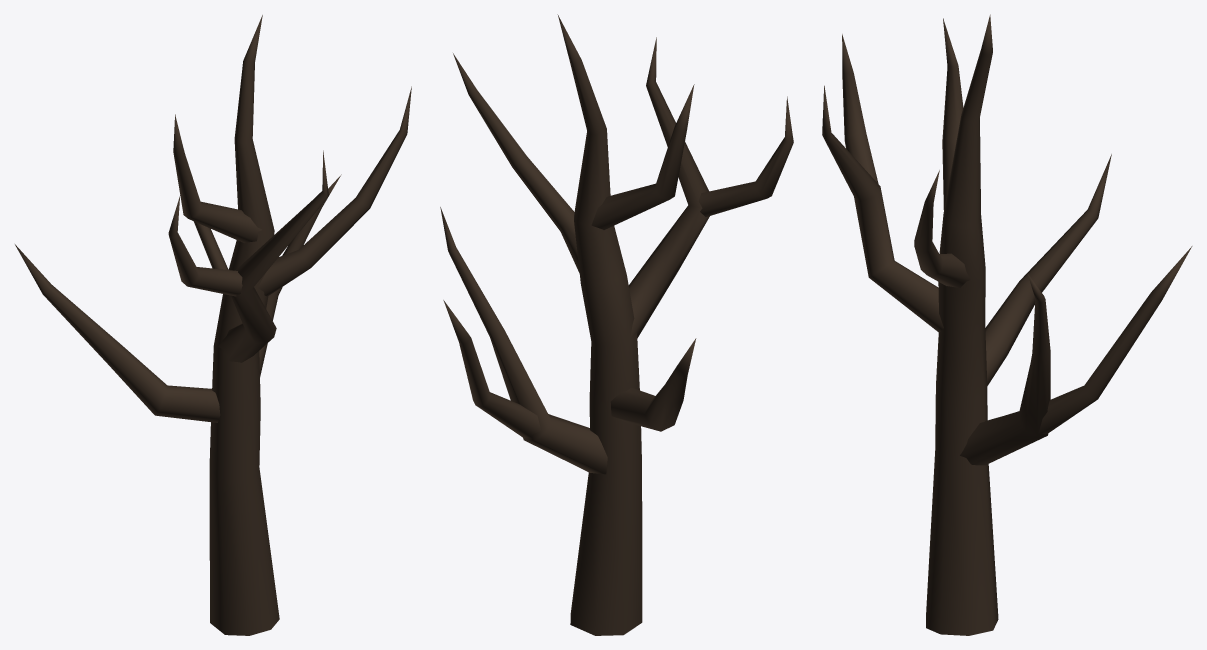
File: Tree_1b.fbx
The picture shows the model from 3 angles, left to right: view 1: azimuth 30°, elevation 25°; view 2: azimuth 150°, elevation 25°; view 3: azimuth 270°, elevation 25°; orthographic projection. The views are drawn at different scales.
Visible parts, largest first — view 1: tree1b; view 2: tree1b; view 3: tree1b.
Boxes of the visible parts, left/top/right/bottom form: tree1b: left=15, top=15, right=411, bottom=635; tree1b: left=440, top=14, right=793, bottom=635; tree1b: left=822, top=14, right=1192, bottom=635.
Bounding box in the file's own units: 352 × 627 × 335.
